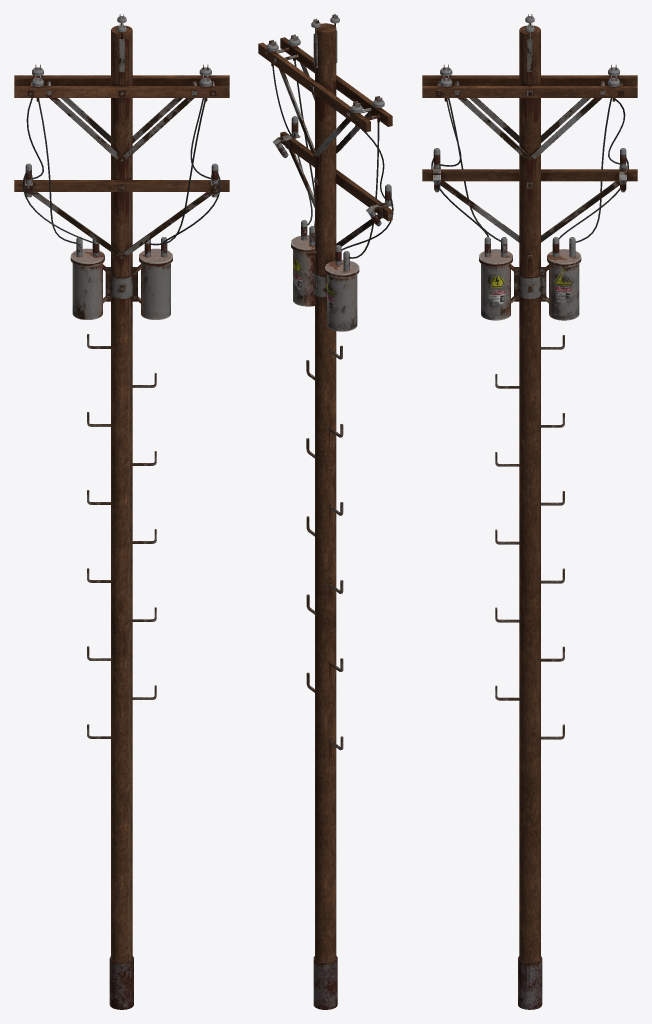
The model's file is transfomer.glb.
The picture shows the model from 3 angles, left to right: view 1: azimuth 90°, elevation 25°; view 2: azimuth 210°, elevation 25°; view 3: azimuth 270°, elevation 25°; orthographic projection.
Parts seen in each view (by area): view 1: Plane.003_Plane.004, Plane.004_Plane.010; view 2: Plane.003_Plane.004, Plane.004_Plane.010; view 3: Plane.003_Plane.004, Plane.004_Plane.010.
Part boxes in pixels (x1,y1,x2,y2): Plane.003_Plane.004: [14, 14, 229, 1009]; Plane.004_Plane.010: [70, 248, 172, 319]; Plane.003_Plane.004: [258, 14, 393, 1009]; Plane.004_Plane.010: [291, 235, 359, 331]; Plane.003_Plane.004: [422, 14, 637, 1009]; Plane.004_Plane.010: [479, 249, 581, 320].
Bounding box in the file's own units: 0.0751 × 2 × 0.3958.
Materials: 1 (1 with a texture image).
